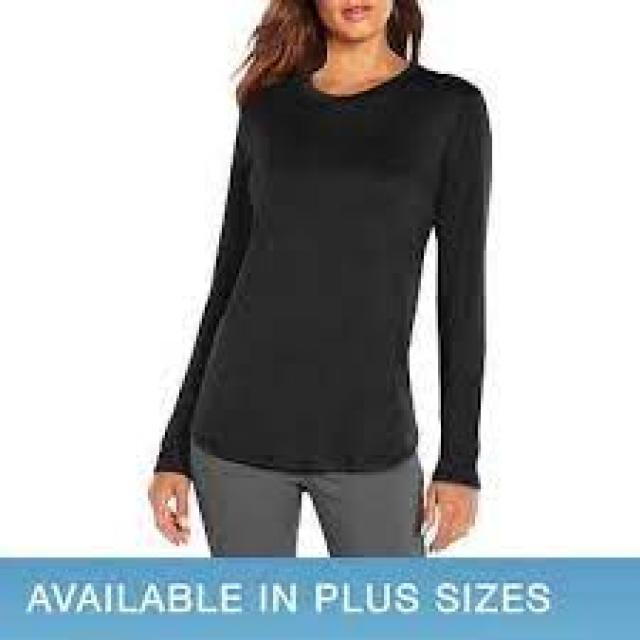plain: (152, 62, 492, 494)
